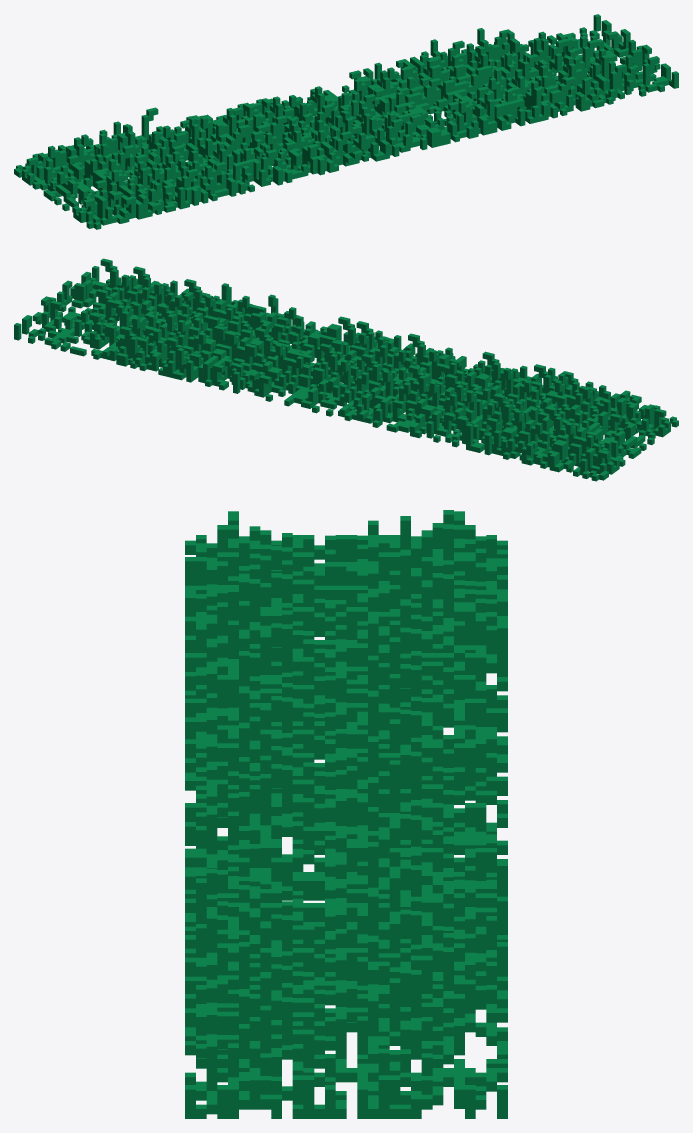
The model's file is grass.gltf.
The picture shows the model from 3 angles, top to bottom: view 1: azimuth 30°, elevation 25°; view 2: azimuth 150°, elevation 25°; view 3: azimuth 270°, elevation 25°; orthographic projection. The views are drawn at different scales.
Parts seen in each view (by area): view 1: grass; view 2: grass; view 3: grass.
Part boxes in pixels (<box>): grass: <box>14,14,678,229</box>; grass: <box>14,258,678,481</box>; grass: <box>185,510,507,1118</box>.
Size of the model in its own units: 15.37 by 0.854 by 3.66.
Materials: 1 (1 with a texture image).
